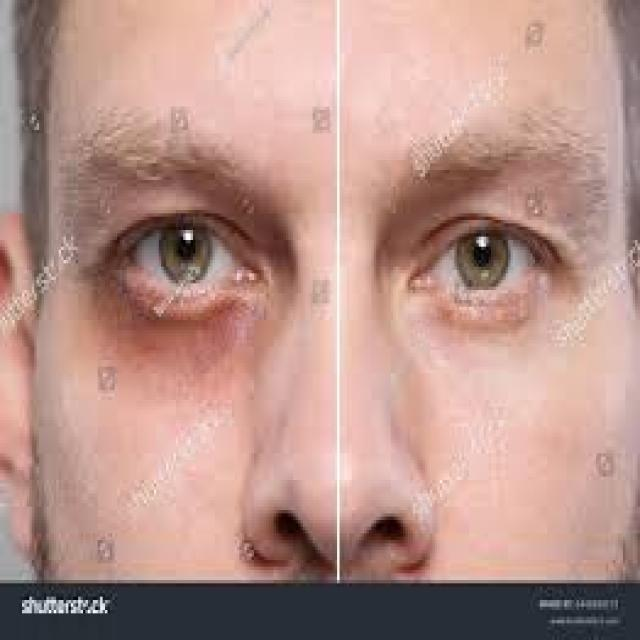low: (404, 303, 565, 361)
moderate: (98, 296, 266, 381)
